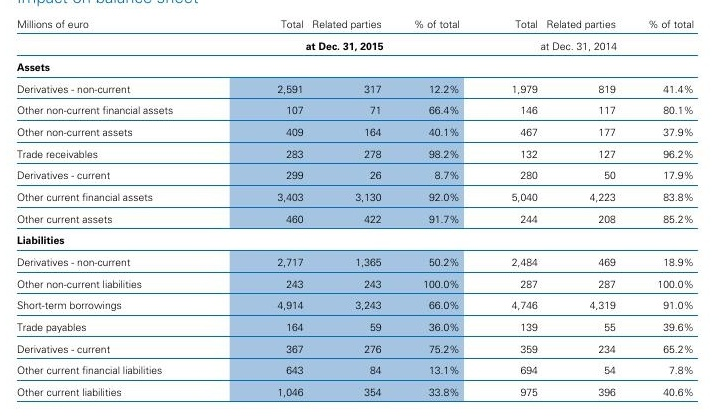table: (0, 0, 719, 416)
